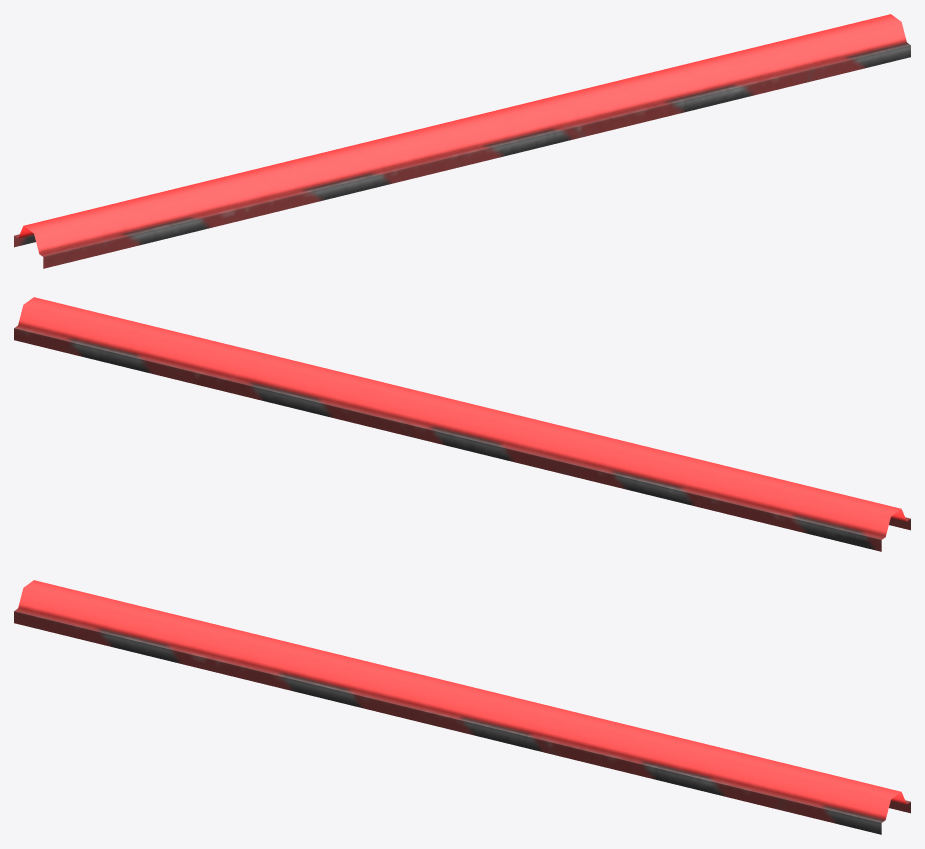
The model's file is Way_MStr.fbx.
3 views of the same model, one above another, from view 1: azimuth 30°, elevation 25°; view 2: azimuth 150°, elevation 25°; view 3: azimuth 330°, elevation 25° (orthographic).
Visible parts, largest first — view 1: Way_MStr; view 2: Way_MStr; view 3: Way_MStr.
Part boxes in pixels (left/top/right/bottom): Way_MStr: left=14, top=14, right=910, bottom=268; Way_MStr: left=14, top=297, right=910, bottom=551; Way_MStr: left=14, top=580, right=910, bottom=834.
Size of the model in its own units: 4 by 0.1253 by 0.2342.
